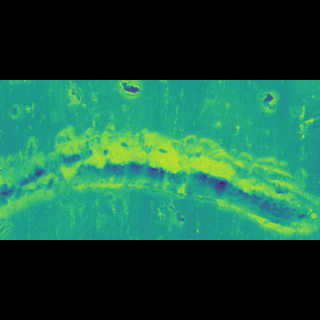Loch: (0, 141, 320, 198), (290, 131, 319, 159), (63, 121, 101, 138), (249, 121, 282, 138), (115, 120, 145, 129)
